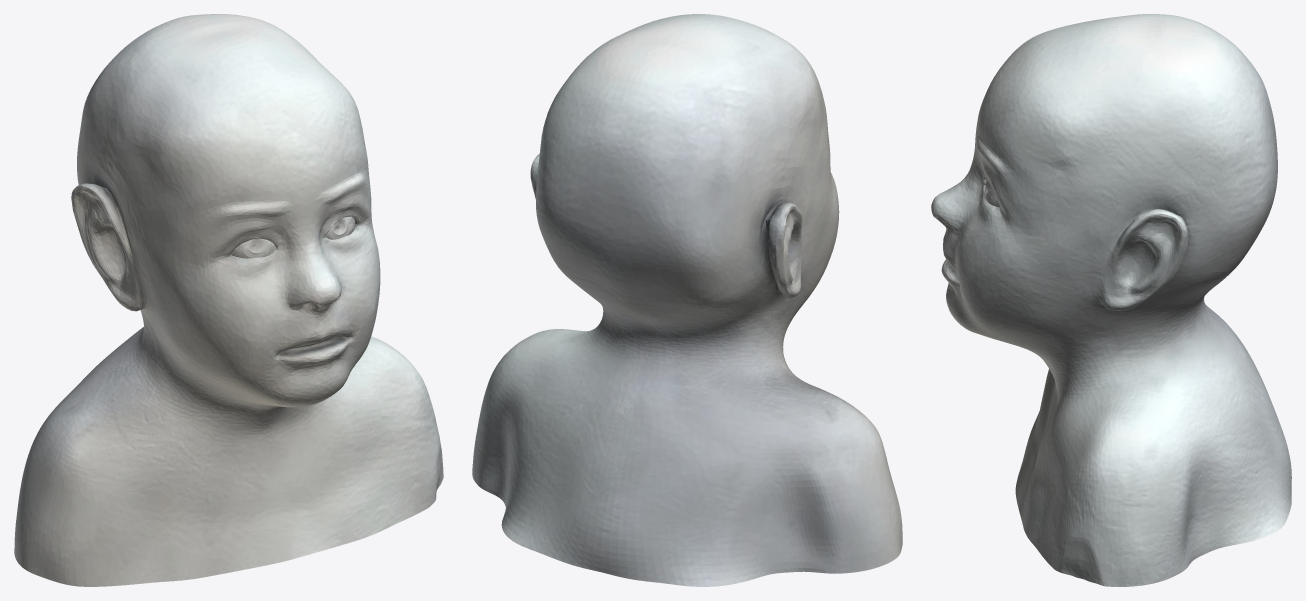
File: lapseportree.glb
3 renders of one model, left to right at view 1: azimuth 30°, elevation 25°; view 2: azimuth 150°, elevation 25°; view 3: azimuth 270°, elevation 25°, orthographic. The views are drawn at different scales.
Visible parts, largest first — view 1: model; view 2: model; view 3: model.
Part boxes in pixels (bbox=[...]): model: bbox=[14, 14, 443, 586]; model: bbox=[472, 14, 902, 586]; model: bbox=[931, 14, 1291, 586].
Size of the model in its own units: 1.79 by 2 by 1.41.
2 materials, 1 textured.
